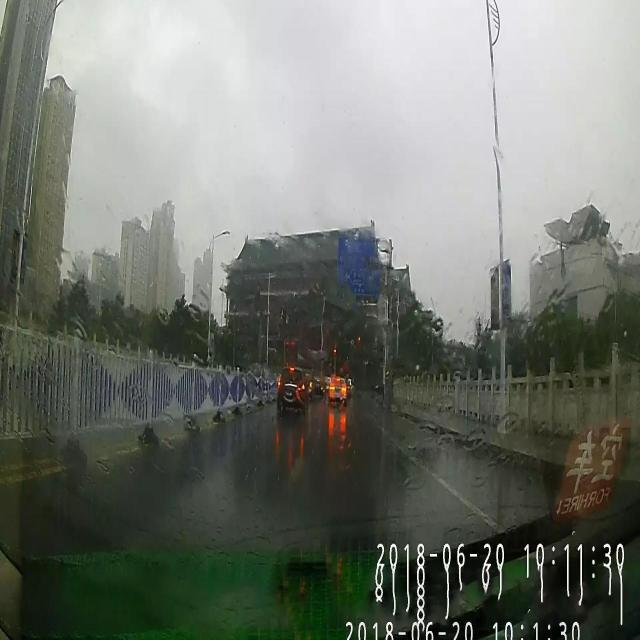car: (275, 363, 308, 413), (324, 375, 348, 406), (310, 377, 324, 397)
